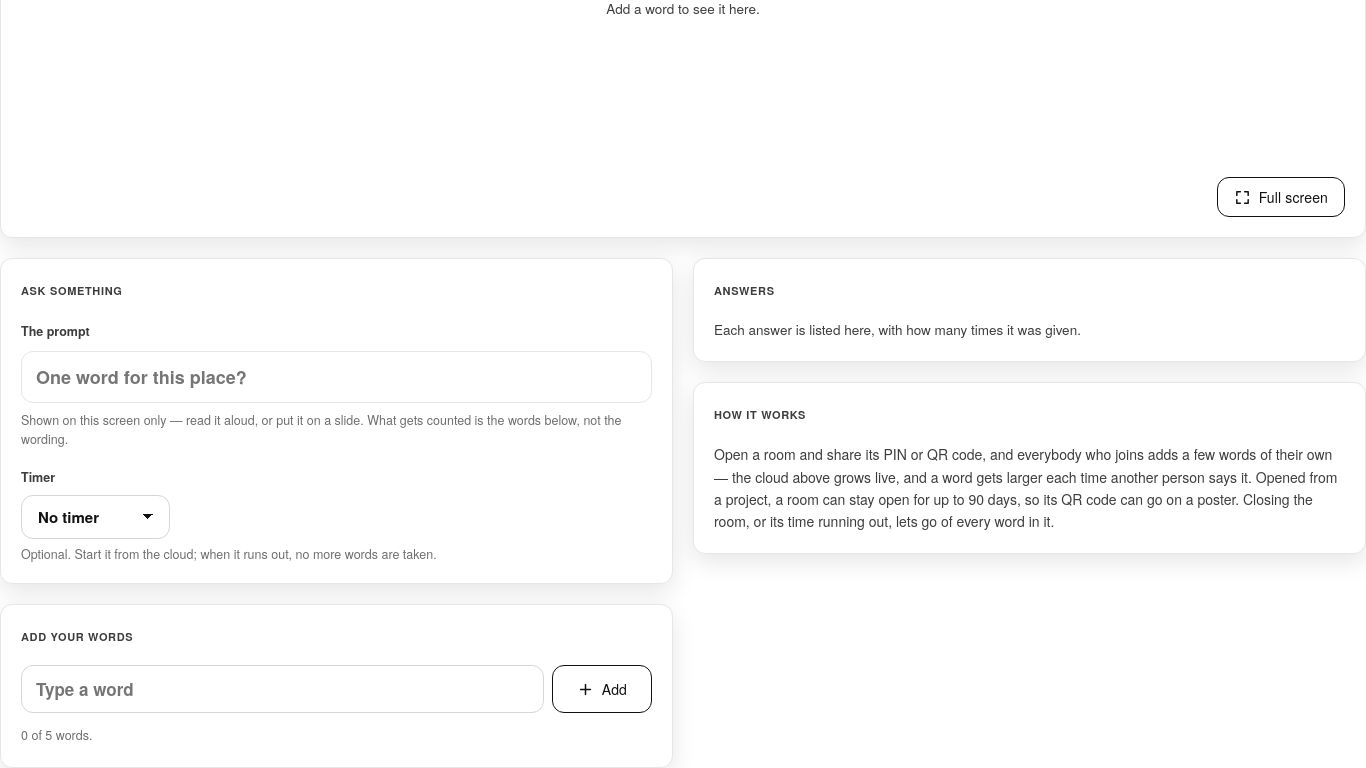
Word Cloud › lists each answer with how many times it was given, under the cloud
(page scrolled)
Type "green" into the field named "Your word" at [282, 689], box [21,665,544,713]
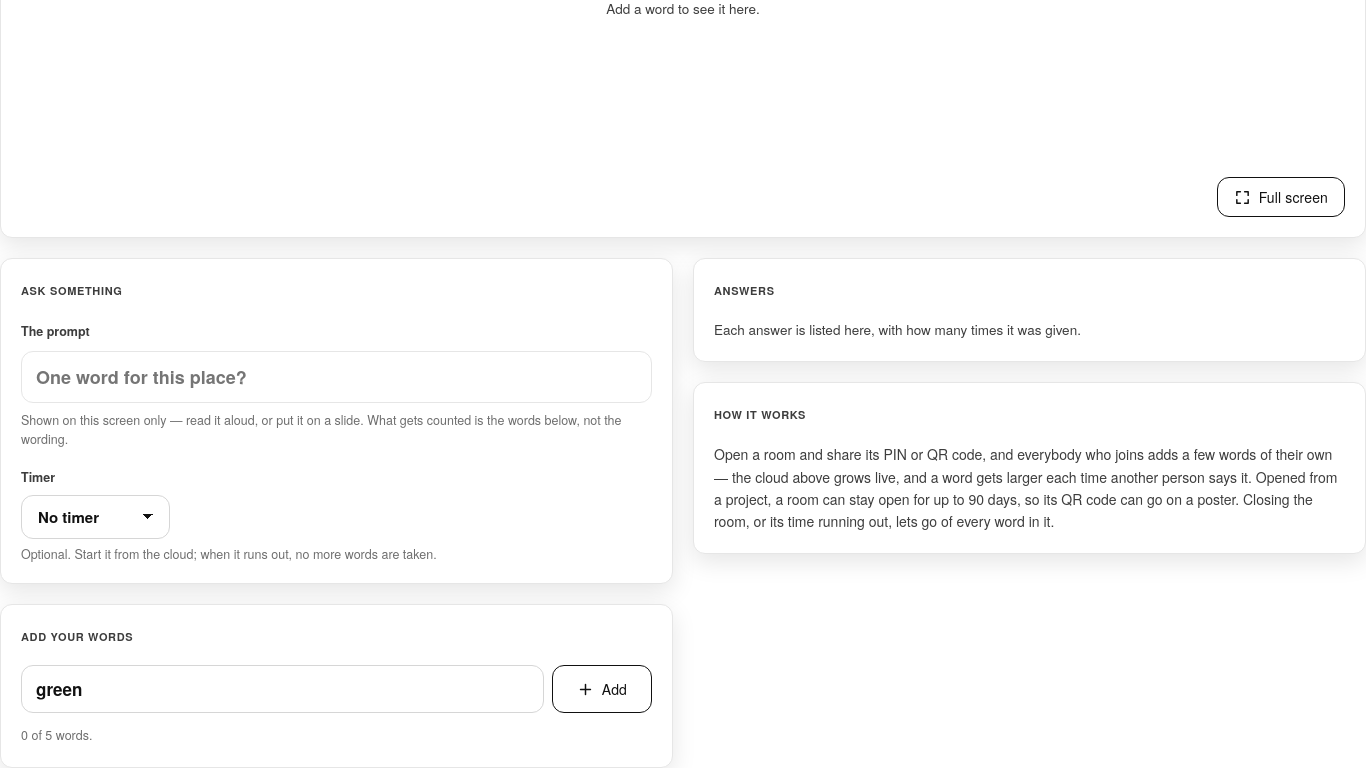
Click the button "Add" at [602, 689], box [552,665,652,713]
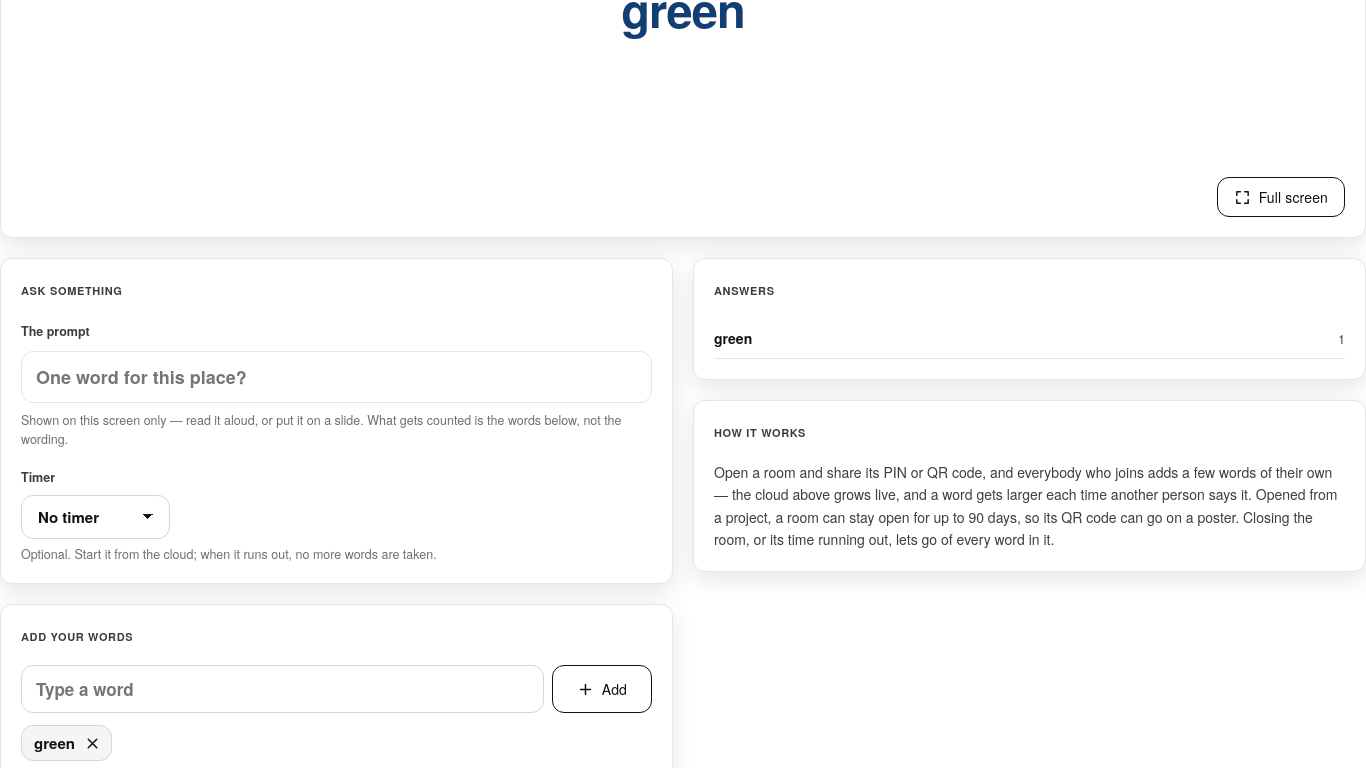
Type "quiet" into the field named "Your word" at [282, 689], box [21,665,544,713]
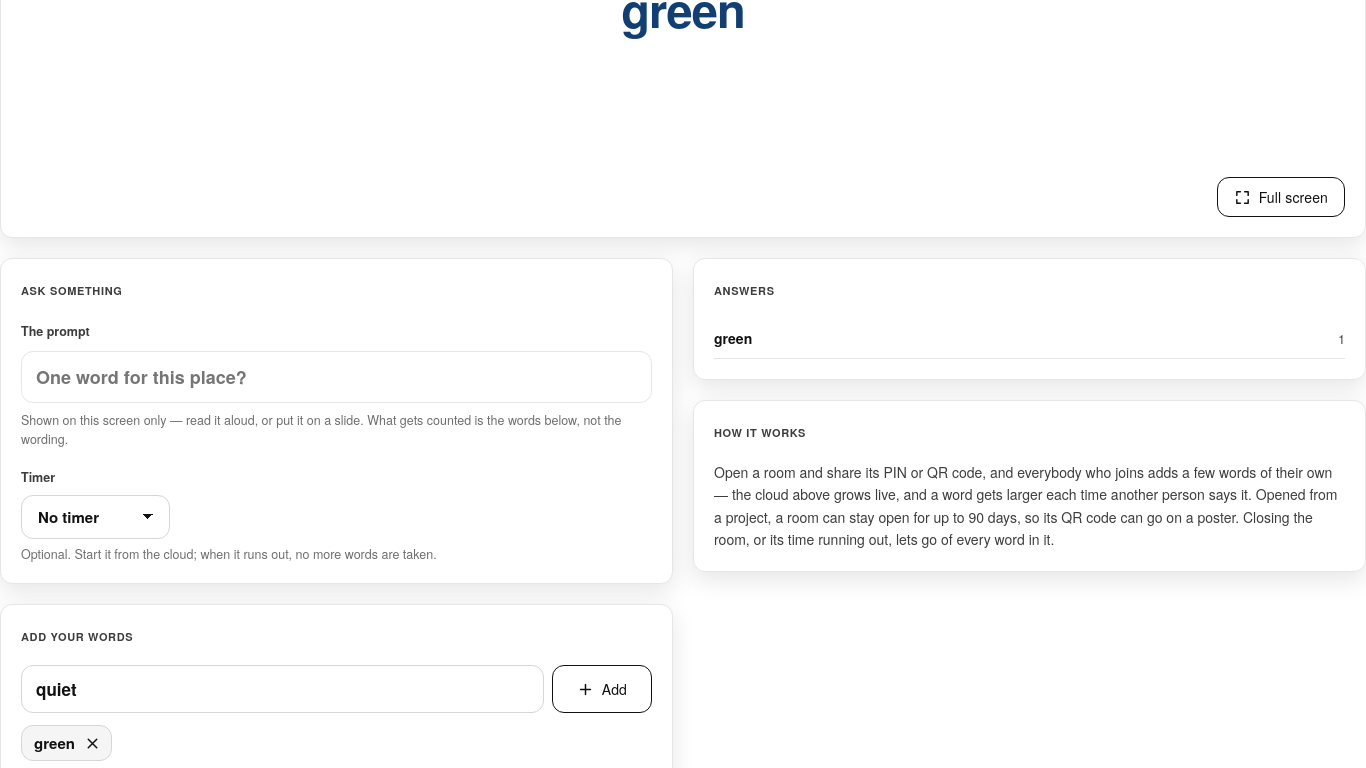
Click the button "Add" at [602, 689], box [552,665,652,713]
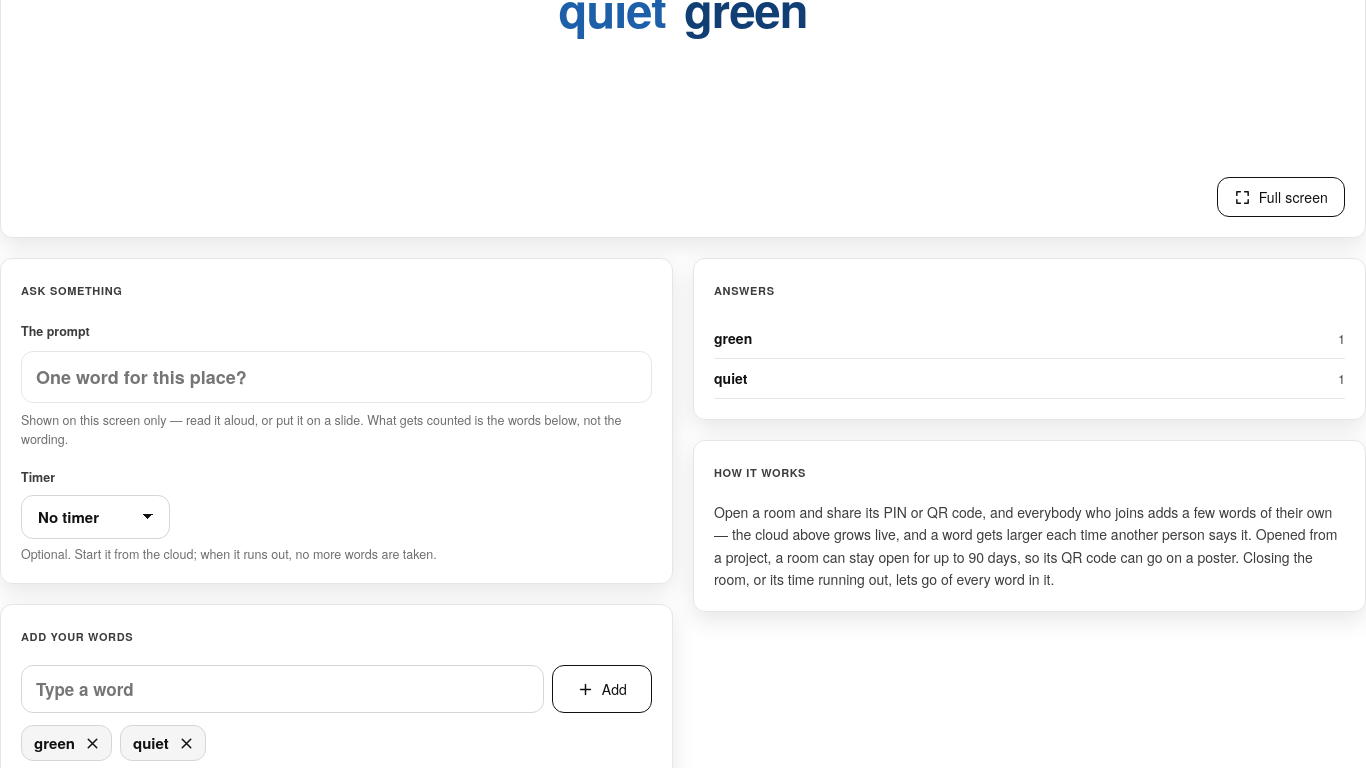
Expected: the list items read "green1", "quiet1", in this order, [714,319,1345,359]; [714,359,1345,399]
